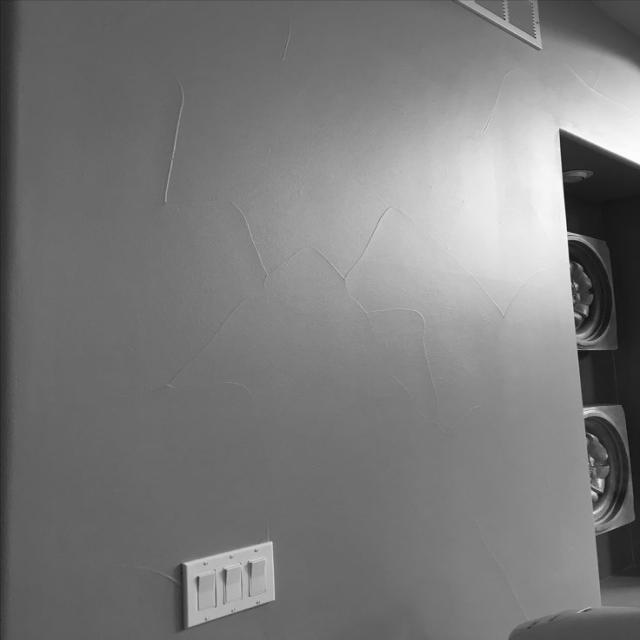trowels marks: (119, 8, 578, 442), (441, 496, 546, 626), (568, 52, 640, 127), (111, 549, 186, 610)
